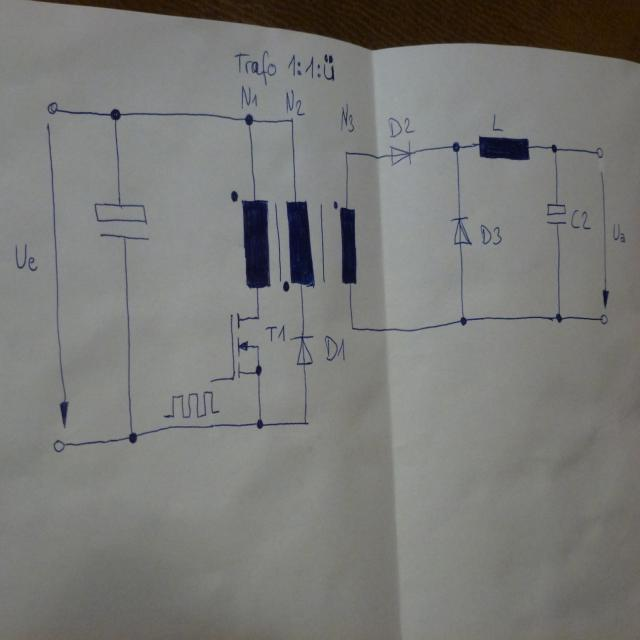capacitor: (91, 199, 152, 243), (545, 200, 567, 228)
diode: (288, 330, 313, 367), (388, 139, 416, 167), (449, 212, 472, 245)
inductor: (476, 133, 531, 163)
junction: (107, 103, 124, 124), (125, 428, 139, 445), (450, 138, 462, 156), (243, 111, 255, 127), (553, 310, 564, 324), (549, 140, 559, 155), (255, 417, 264, 430), (458, 313, 467, 326), (342, 148, 350, 158), (348, 322, 356, 331), (302, 418, 308, 427), (289, 115, 294, 123)
terminal: (51, 436, 68, 456), (45, 98, 60, 118), (594, 144, 604, 160), (599, 310, 608, 324), (208, 377, 213, 383)
text: (228, 48, 338, 86), (13, 242, 38, 271), (322, 333, 346, 362), (386, 114, 414, 138), (478, 221, 502, 245), (285, 89, 306, 116), (338, 102, 356, 133), (238, 82, 258, 108), (570, 207, 590, 231), (489, 110, 508, 134), (266, 323, 286, 343), (611, 220, 626, 242)
transformer: (227, 187, 360, 295)
transistor: (228, 308, 264, 382)
